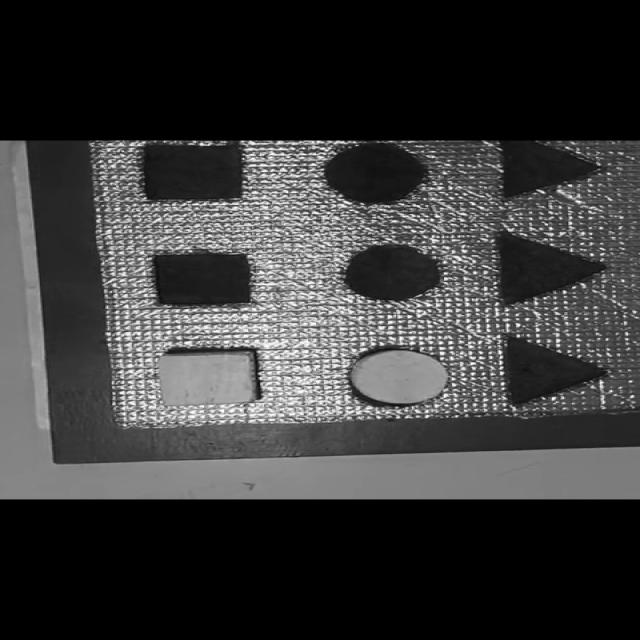mtcircle: (323, 143, 429, 205), (342, 244, 444, 301)
mtcube: (141, 142, 248, 203), (151, 252, 254, 306)
mttriangle: (494, 232, 607, 306), (501, 334, 610, 406), (498, 140, 602, 200)
wb: (107, 140, 634, 420)
ycircle: (342, 346, 455, 409)
ycube: (155, 348, 263, 408)
